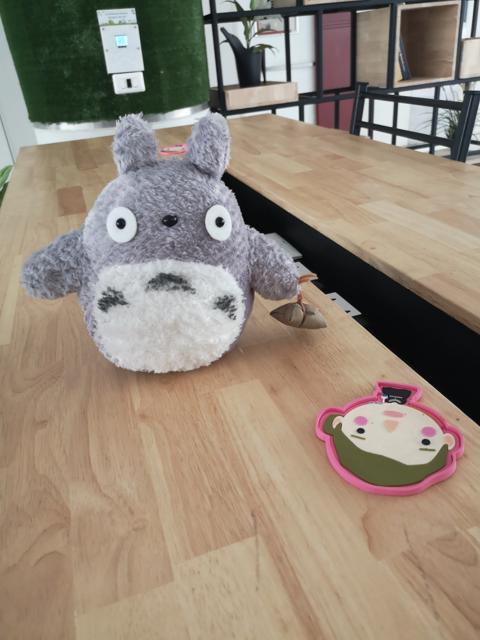totoro: (15, 108, 332, 384)
